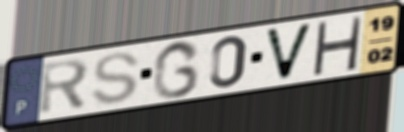0: (208, 34, 248, 90)
G: (150, 38, 203, 100)
H: (310, 16, 365, 76)
R: (38, 56, 92, 118)
S: (90, 50, 143, 106)
V: (262, 21, 316, 82)
